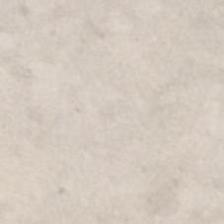Non_Crack: (28, 45, 222, 219)
